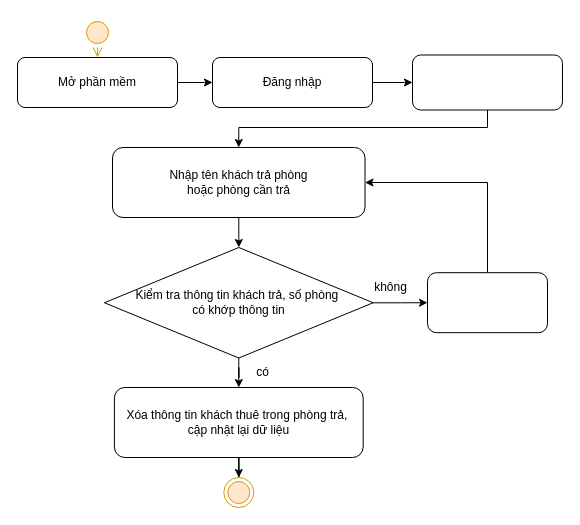
Some shapes in this 580 by 525 pixel diagram are drawn without their labels. The box of each missing label's shape, as (x1, y1, x2, y2) in pixels:
Thông báo lỗi: (426, 272, 548, 333)
Trả phòng: (412, 54, 562, 110)
